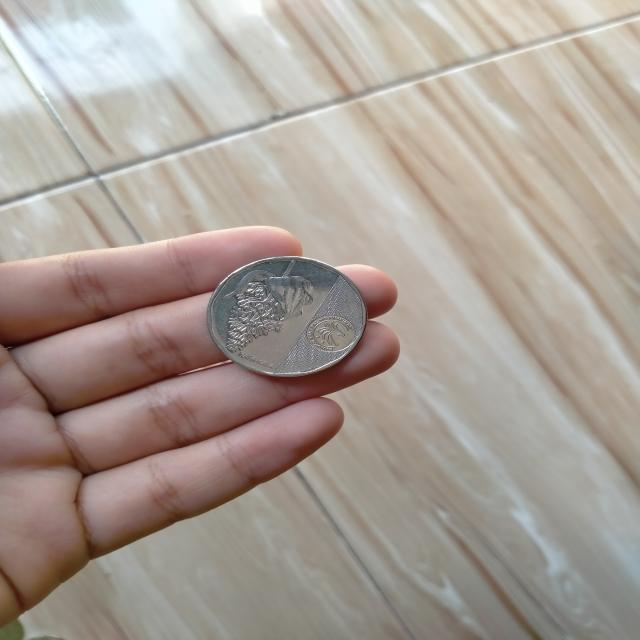10_New_Back: (218, 251, 326, 358)
